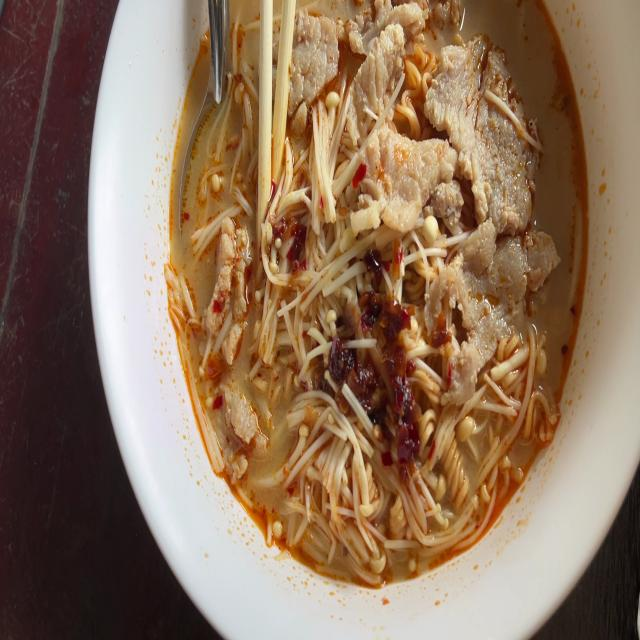noodle: (160, 0, 599, 593)
